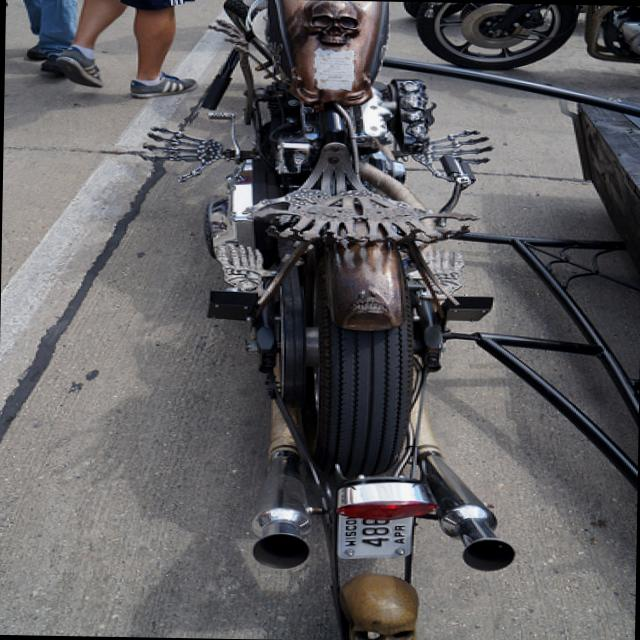Vehicle: (130, 0, 528, 640), (416, 1, 640, 71)
